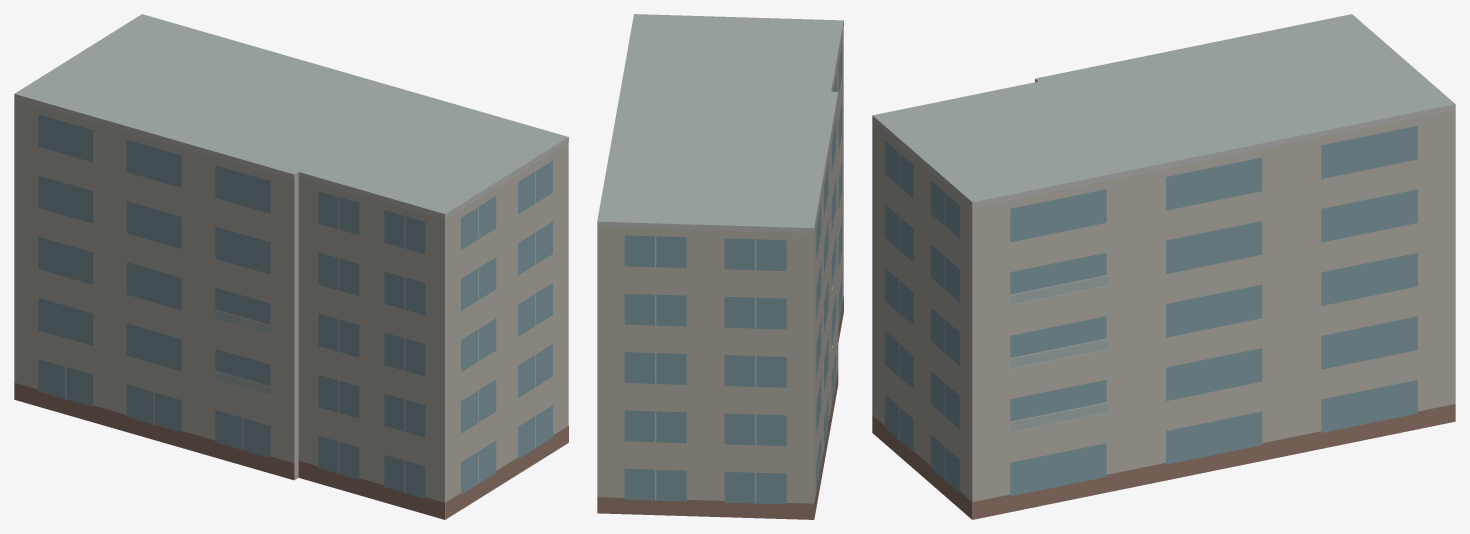
The model's file is survey-upis-32918046.glb.
3 views of the same model, side by side, from view 1: azimuth 30°, elevation 25°; view 2: azimuth 150°, elevation 25°; view 3: azimuth 270°, elevation 25° (orthographic). The views are drawn at different scales.
Visible parts, largest first — view 1: survey-upis-32918046.tmp; view 2: survey-upis-32918046.tmp; view 3: survey-upis-32918046.tmp.
Boxes of the visible parts, bbox=[...] form: survey-upis-32918046.tmp: bbox=[14, 14, 568, 519]; survey-upis-32918046.tmp: bbox=[597, 14, 843, 519]; survey-upis-32918046.tmp: bbox=[872, 14, 1455, 519].
Size of the model in its own units: 17.05 by 13.4 by 22.31.
